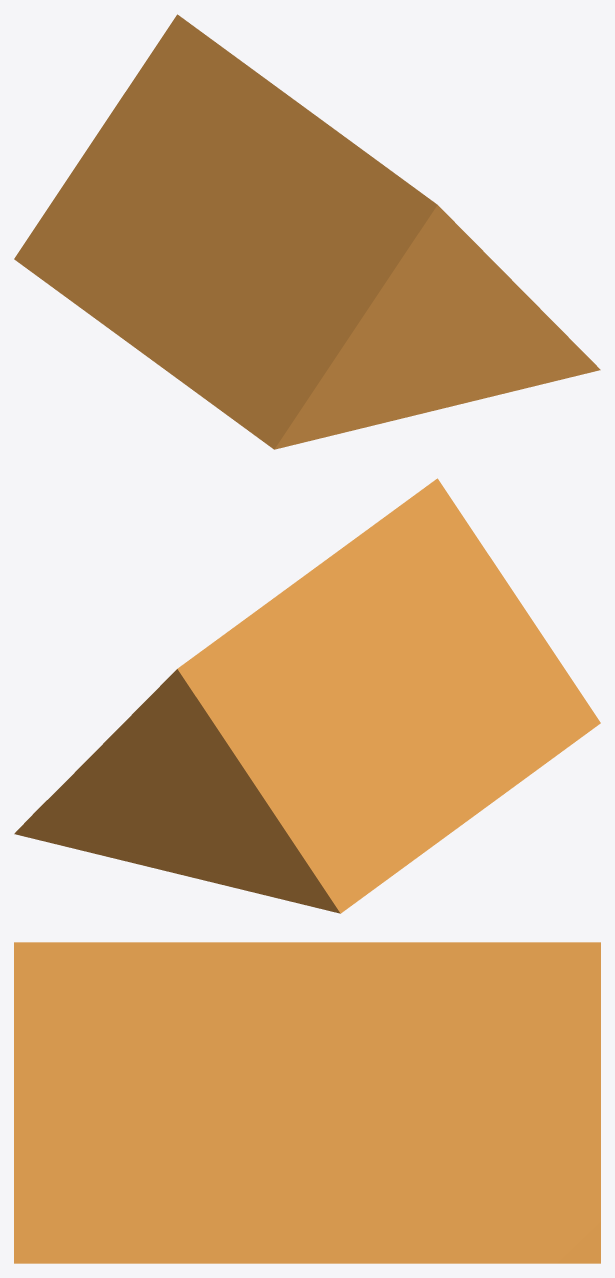
The model's file is prisme__vertex.glb.
3 views of the same model, one above another, from view 1: azimuth 30°, elevation 25°; view 2: azimuth 150°, elevation 25°; view 3: azimuth 270°, elevation 25° (orthographic). The views are drawn at different scales.
Visible parts, largest first — view 1: prisme; view 2: prisme; view 3: prisme.
Part boxes in pixels (left/top/right/bottom): prisme: left=14, top=14, right=600, bottom=449; prisme: left=14, top=478, right=600, bottom=913; prisme: left=14, top=942, right=600, bottom=1263.
Bounding box in the file's own units: 0.7721 × 0.4632 × 1.07.
